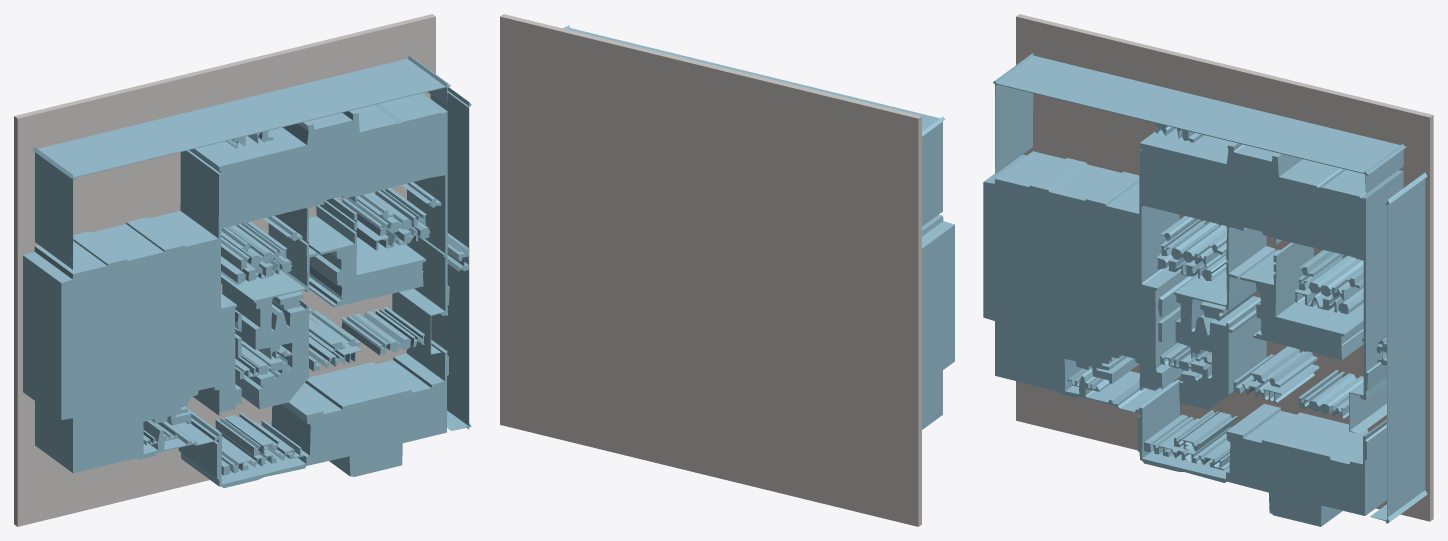
3 renders of one model, left to right at view 1: azimuth 30°, elevation 25°; view 2: azimuth 150°, elevation 25°; view 3: azimuth 330°, elevation 25°, orthographic.
Parts seen in each view (by area): view 1: world; view 2: world; view 3: world.
Part boxes in pixels (x1=…): world: x1=14, y1=14, x2=471, y2=526; world: x1=500, y1=14, x2=954, y2=526; world: x1=983, y1=14, x2=1433, y2=526.
Size of the model in its own units: 10.23 by 9.54 by 1.77.
